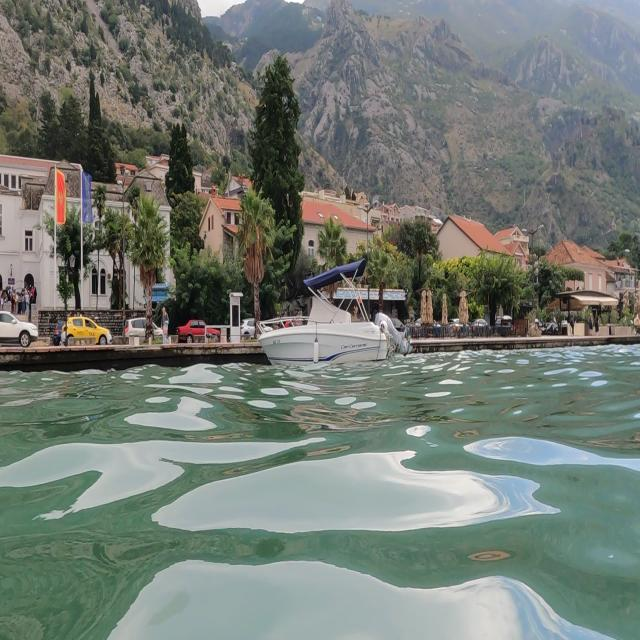boat: (255, 256, 409, 371)
